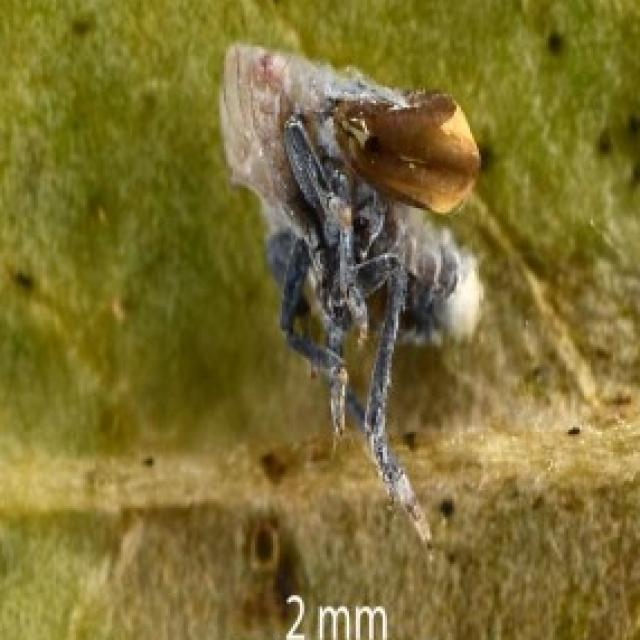brown plant hopper: (219, 45, 481, 539)
